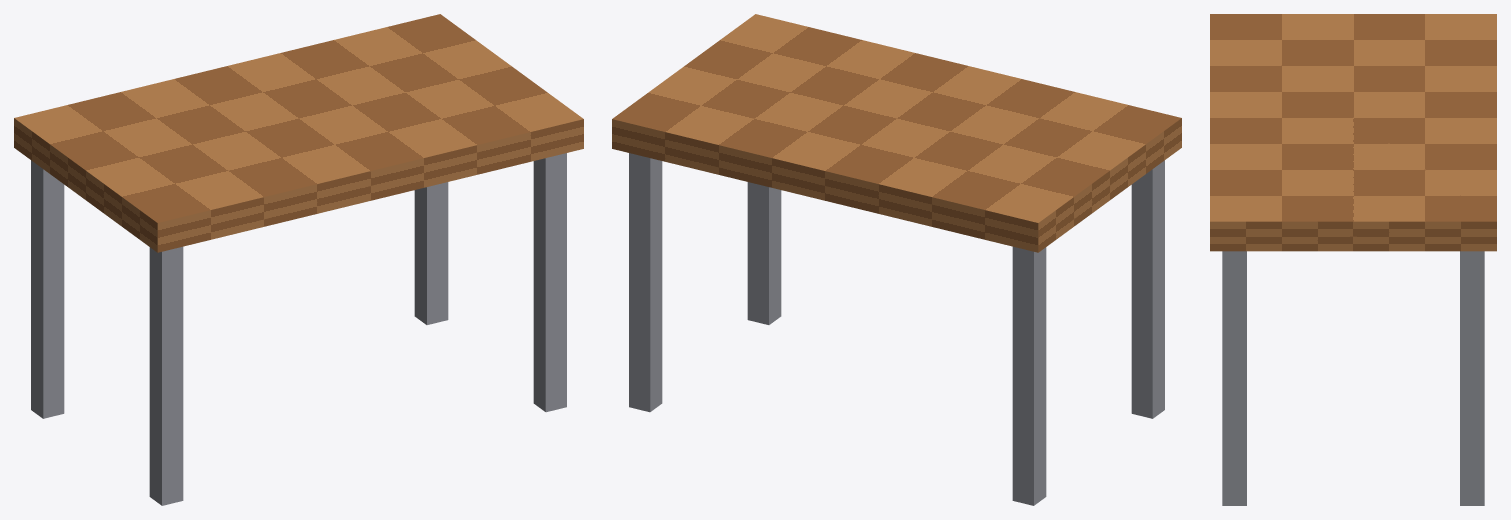
Rendered from table.obj.
The picture shows the model from 3 angles, left to right: view 1: azimuth 30°, elevation 25°; view 2: azimuth 150°, elevation 25°; view 3: azimuth 270°, elevation 25°; orthographic projection.
Visible parts, largest first — view 1: Top, Legs; view 2: Top, Legs; view 3: Top, Legs.
Part boxes in pixels (bbox=[...]): Top: bbox=[14, 14, 583, 252]; Legs: bbox=[31, 153, 566, 505]; Top: bbox=[612, 14, 1181, 252]; Legs: bbox=[629, 153, 1164, 505]; Top: bbox=[1210, 14, 1496, 251]; Legs: bbox=[1222, 251, 1484, 505].
Size of the model in its own units: 1.2 by 0.78 by 0.7.
2 materials, 1 textured.
